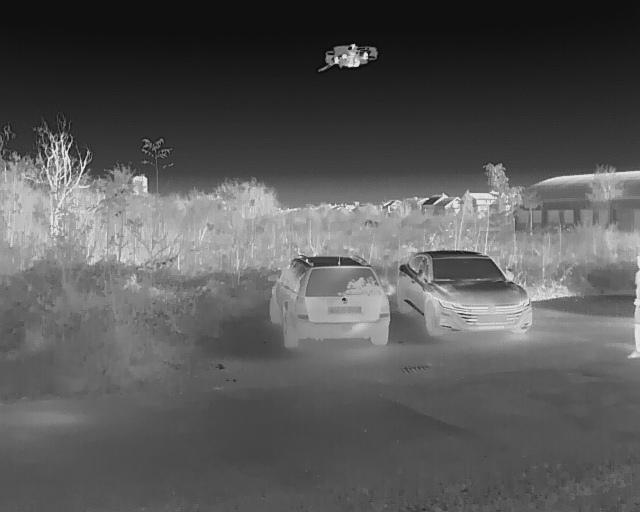drone: (311, 24, 383, 94)
